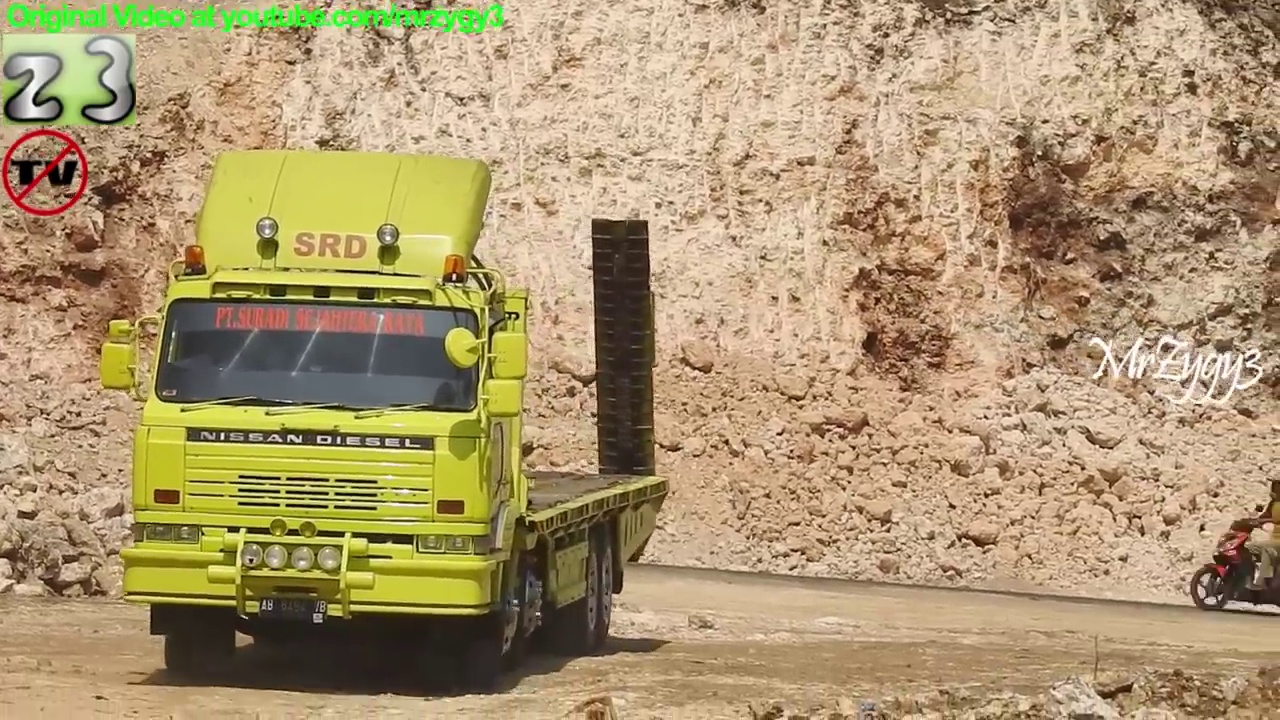truck: (93, 138, 677, 692)
